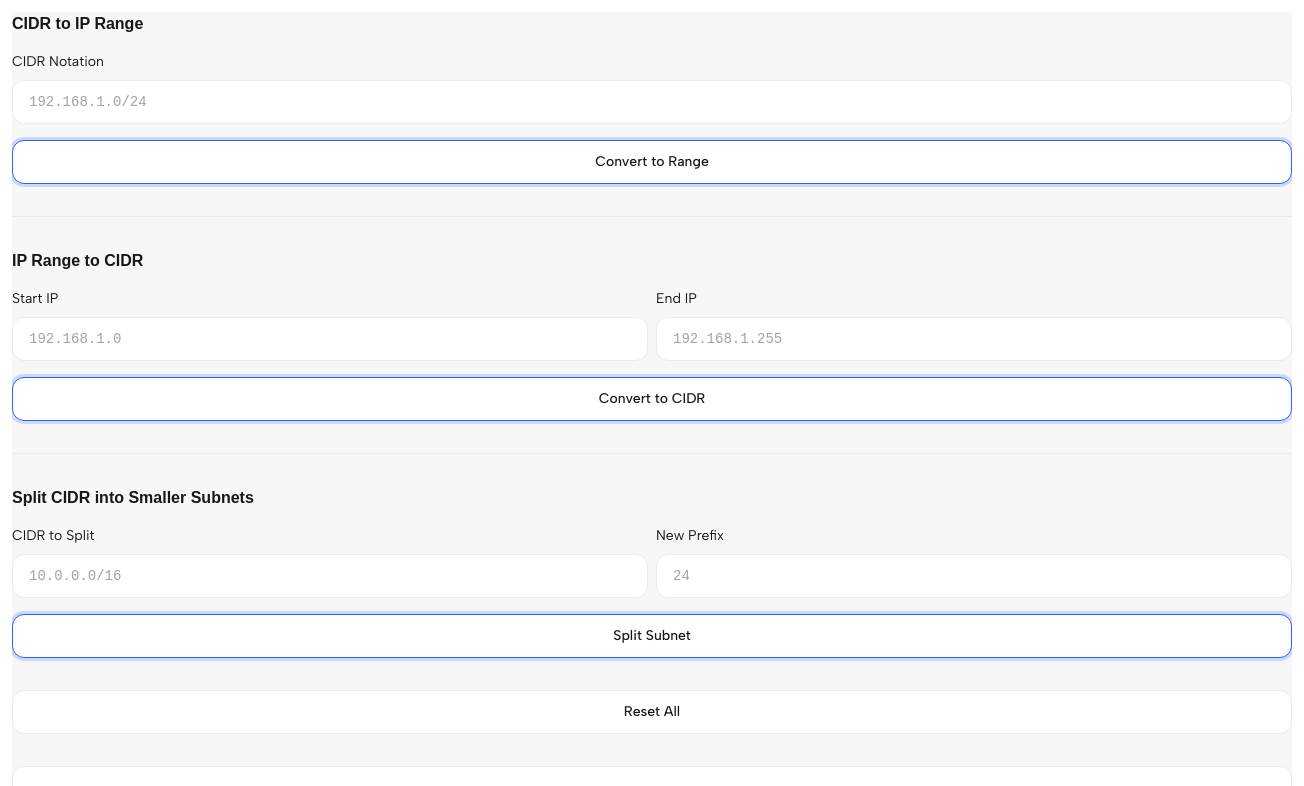
Test: CidrCalculatorTool › handles range that requires multiple CIDR blocks
Note: This range might need multiple CIDR blocks
In the field with placeholder "192.168.1.0": (330, 339) x1=12 y1=317 x2=648 y2=361, type "192.168.0.0"
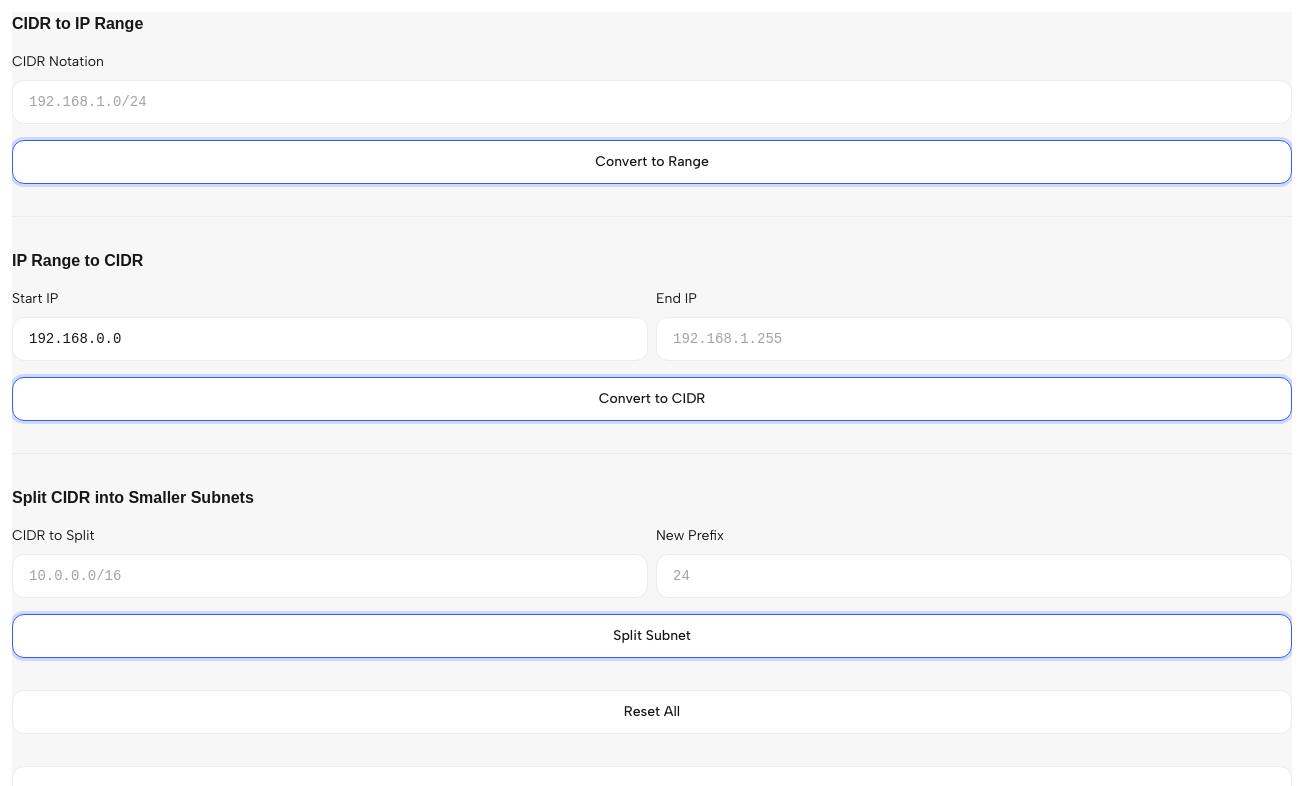
In the field with placeholder "192.168.1.255": (974, 339) x1=656 y1=317 x2=1292 y2=361, type "192.168.3.255"
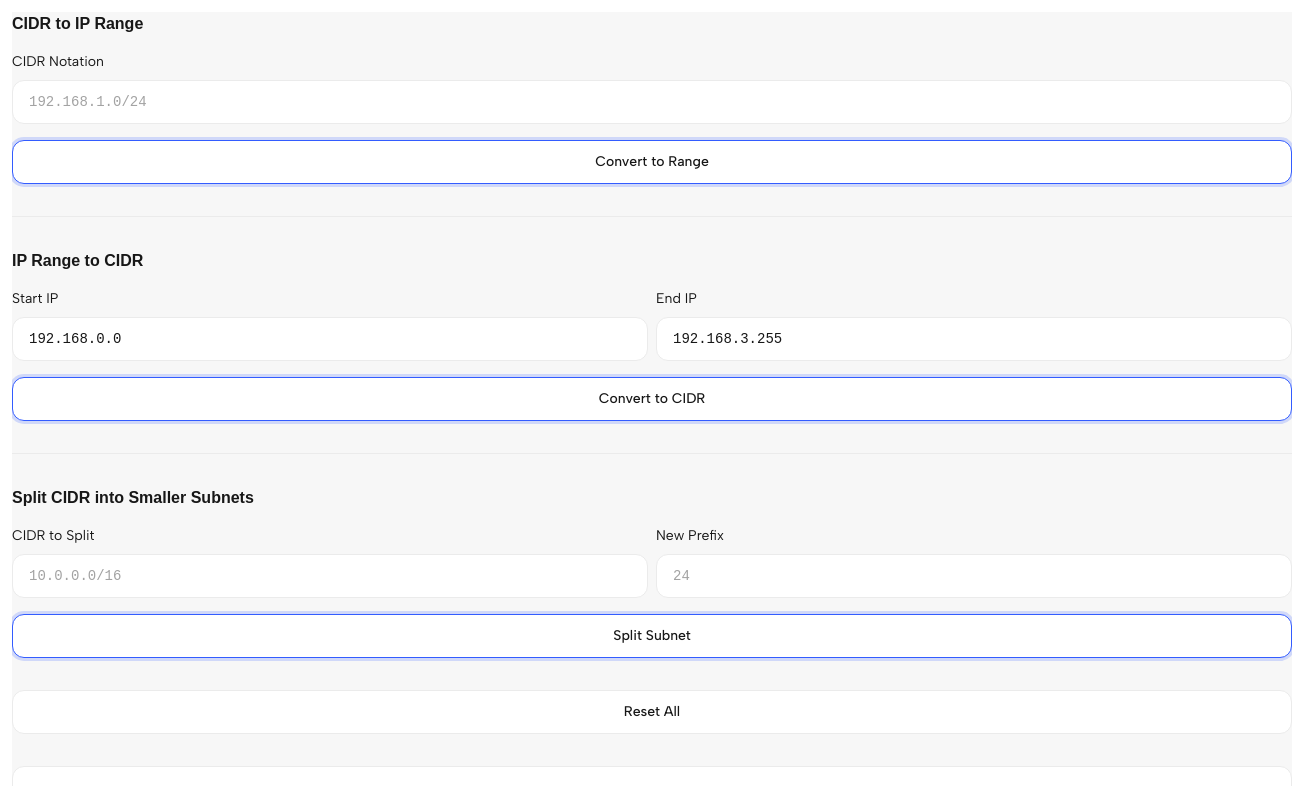
Click the button "Convert to CIDR": (652, 399) x1=12 y1=377 x2=1292 y2=421
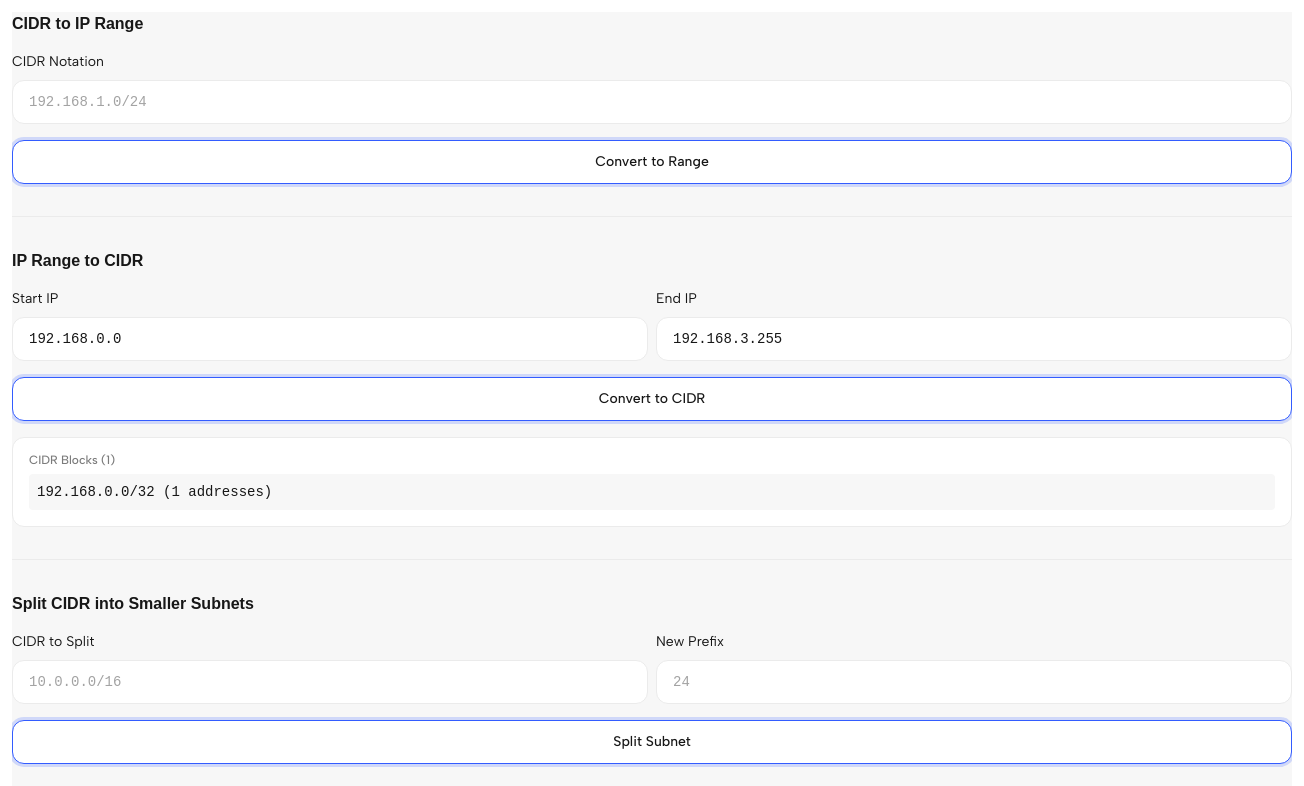
Expected: the text "CIDR Blocks (1)" is shown, x1=29 y1=453 x2=115 y2=467
